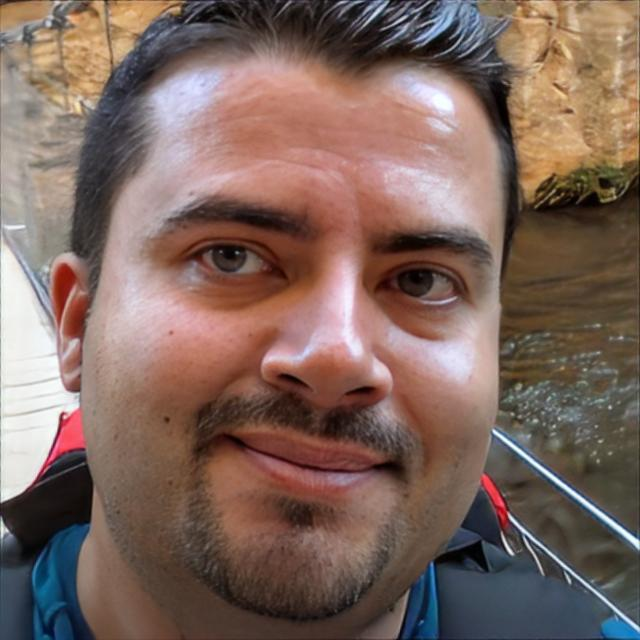content: (87, 29, 513, 634)
